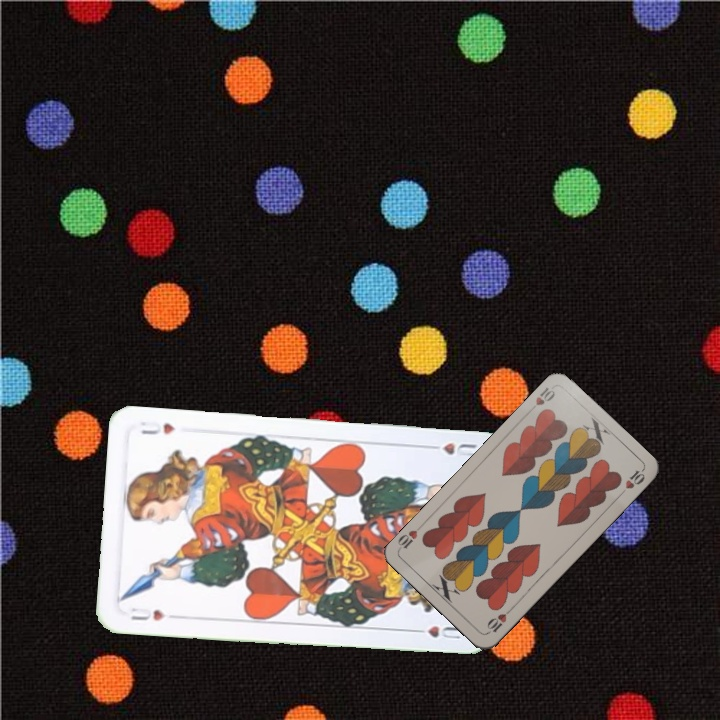H10: (483, 603, 515, 636), (525, 383, 558, 415)
HU: (423, 438, 481, 459), (125, 603, 168, 624)
